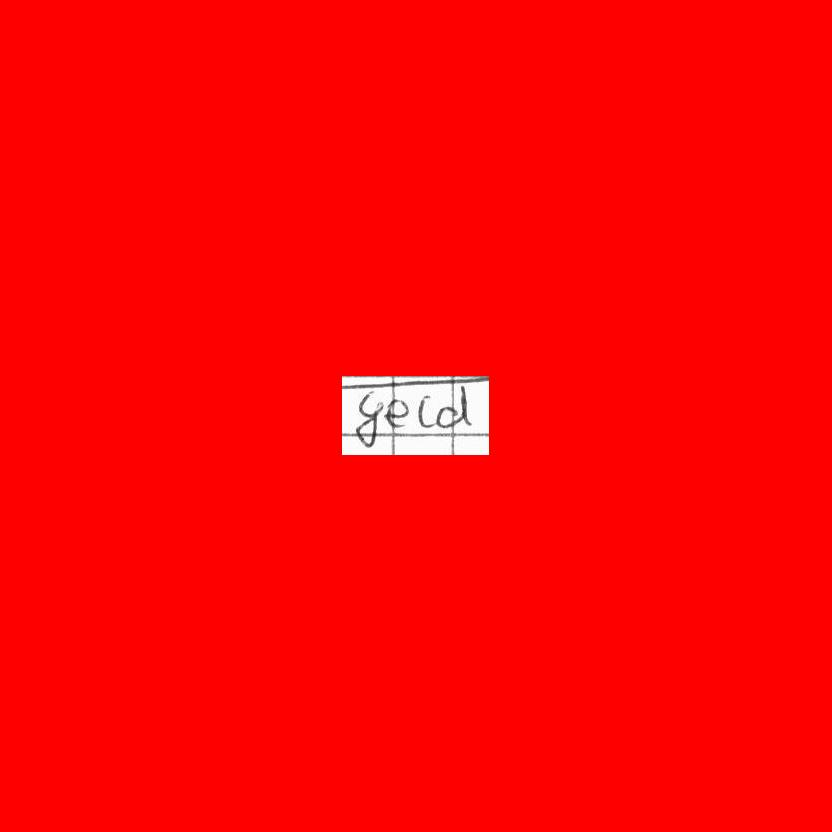Char: (353, 391, 384, 447), (437, 386, 471, 430), (384, 396, 409, 428), (417, 393, 435, 429)
